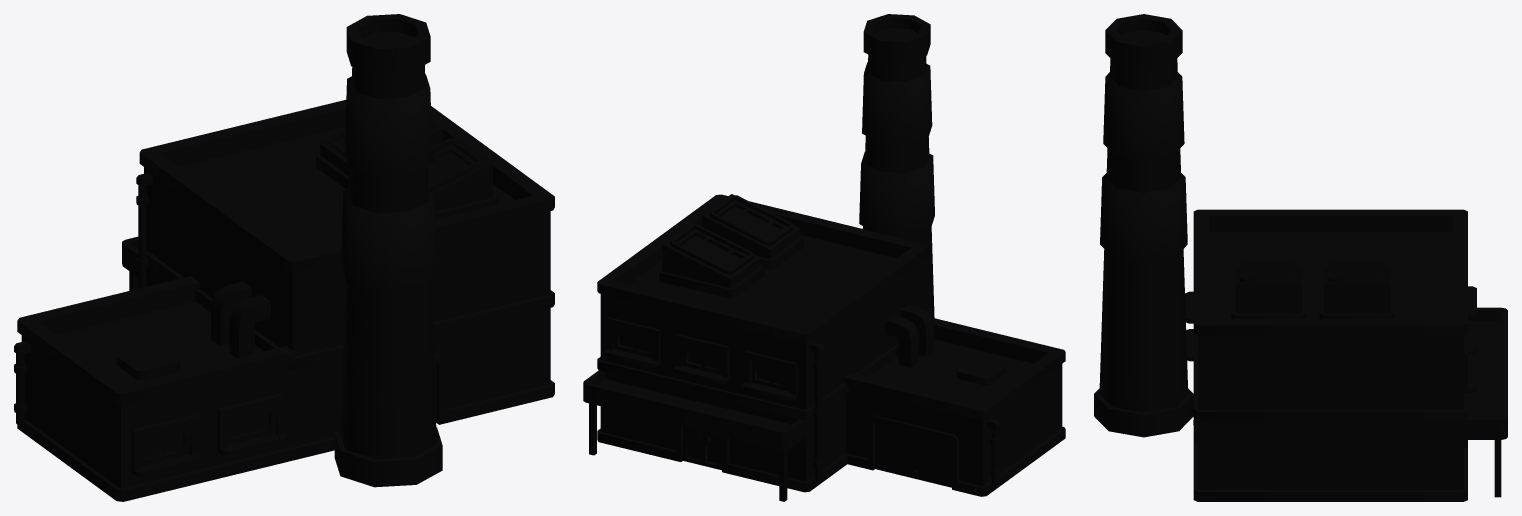
File: building-l.glb
3 views of the same model, side by side, from view 1: azimuth 30°, elevation 25°; view 2: azimuth 150°, elevation 25°; view 3: azimuth 270°, elevation 25° (orthographic). The views are drawn at different scales.
Parts seen in each view (by area): view 1: building-l; view 2: building-l; view 3: building-l.
Boxes of the visible parts, left/top/right/bottom form: building-l: left=14, top=14, right=554, bottom=501; building-l: left=583, top=14, right=1065, bottom=501; building-l: left=1094, top=14, right=1507, bottom=501.
Size of the model in its own units: 2.08 by 1.93 by 1.87.
1 material, 1 textured.
